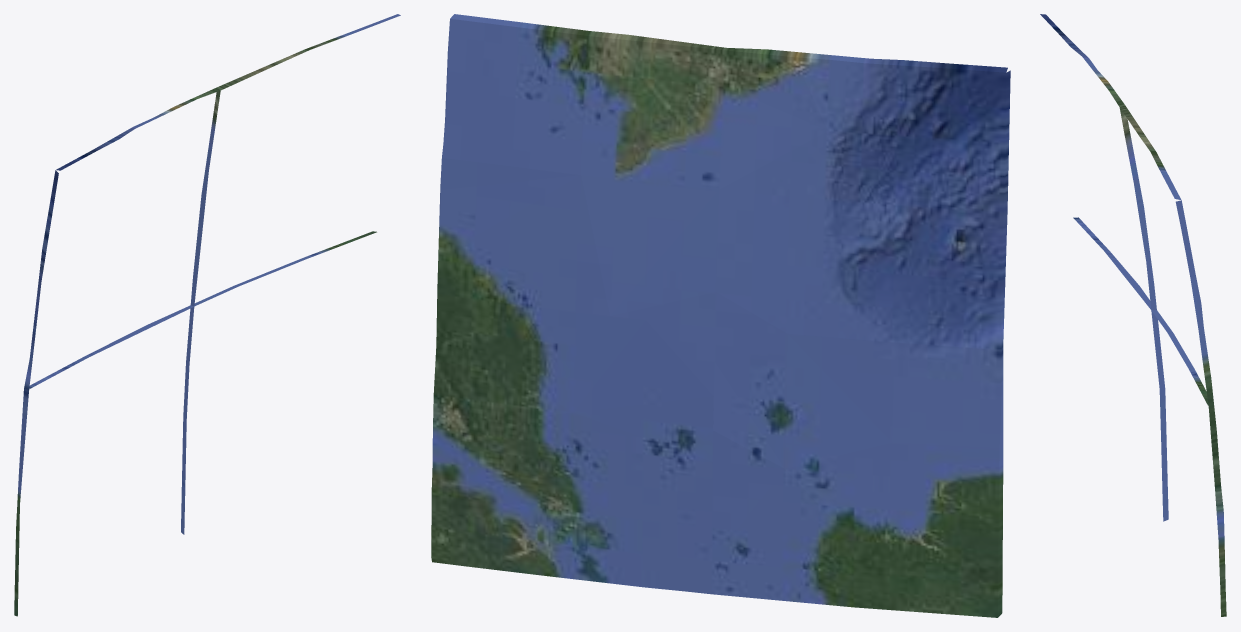
The picture shows the model from 3 angles, left to right: view 1: azimuth 30°, elevation 25°; view 2: azimuth 150°, elevation 25°; view 3: azimuth 270°, elevation 25°; orthographic projection. The views are drawn at different scales.
Size of the model in its own units: 1233261 by 1253933 by 501637.
Materials: 1 (1 with a texture image).
